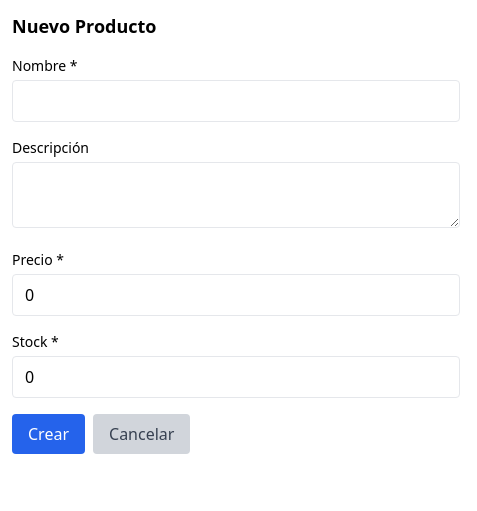
Test: ProductoForm › muestra error si stock es negativo
This screenshot has width=477, height=511.
Replace the text in the number field below "Precio *" with "10" at (236, 295), box x1=12 y1=274 x2=460 y2=316
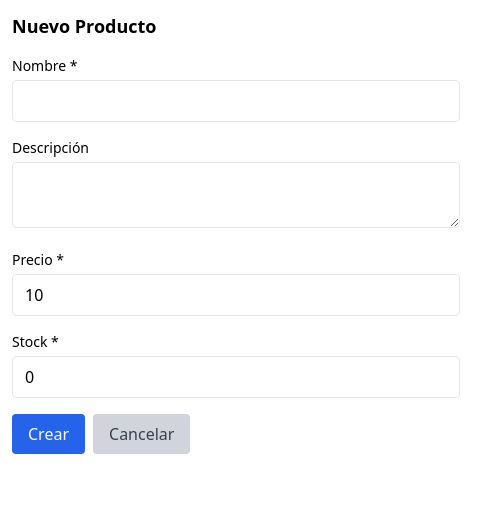
Replace the text in the number field below "Stock *" with "-5" at (236, 377), box x1=12 y1=356 x2=460 y2=398
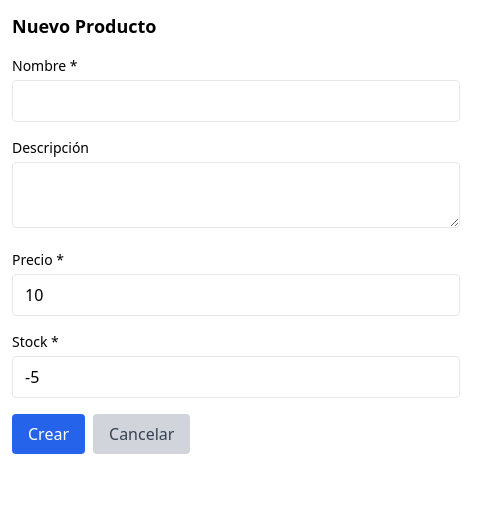
Submit the form
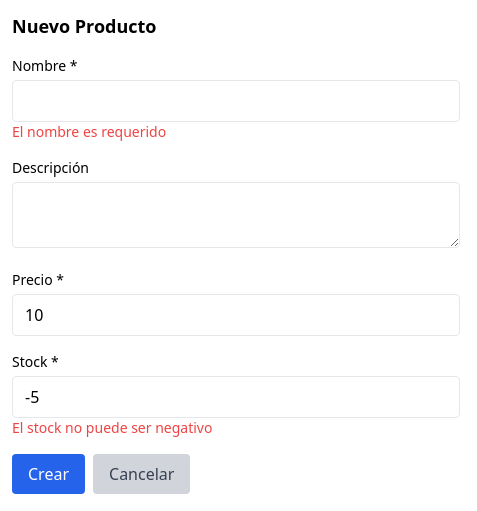
Expected: the form shows "El stock no puede ser negativo", x1=12 y1=418 x2=212 y2=437
